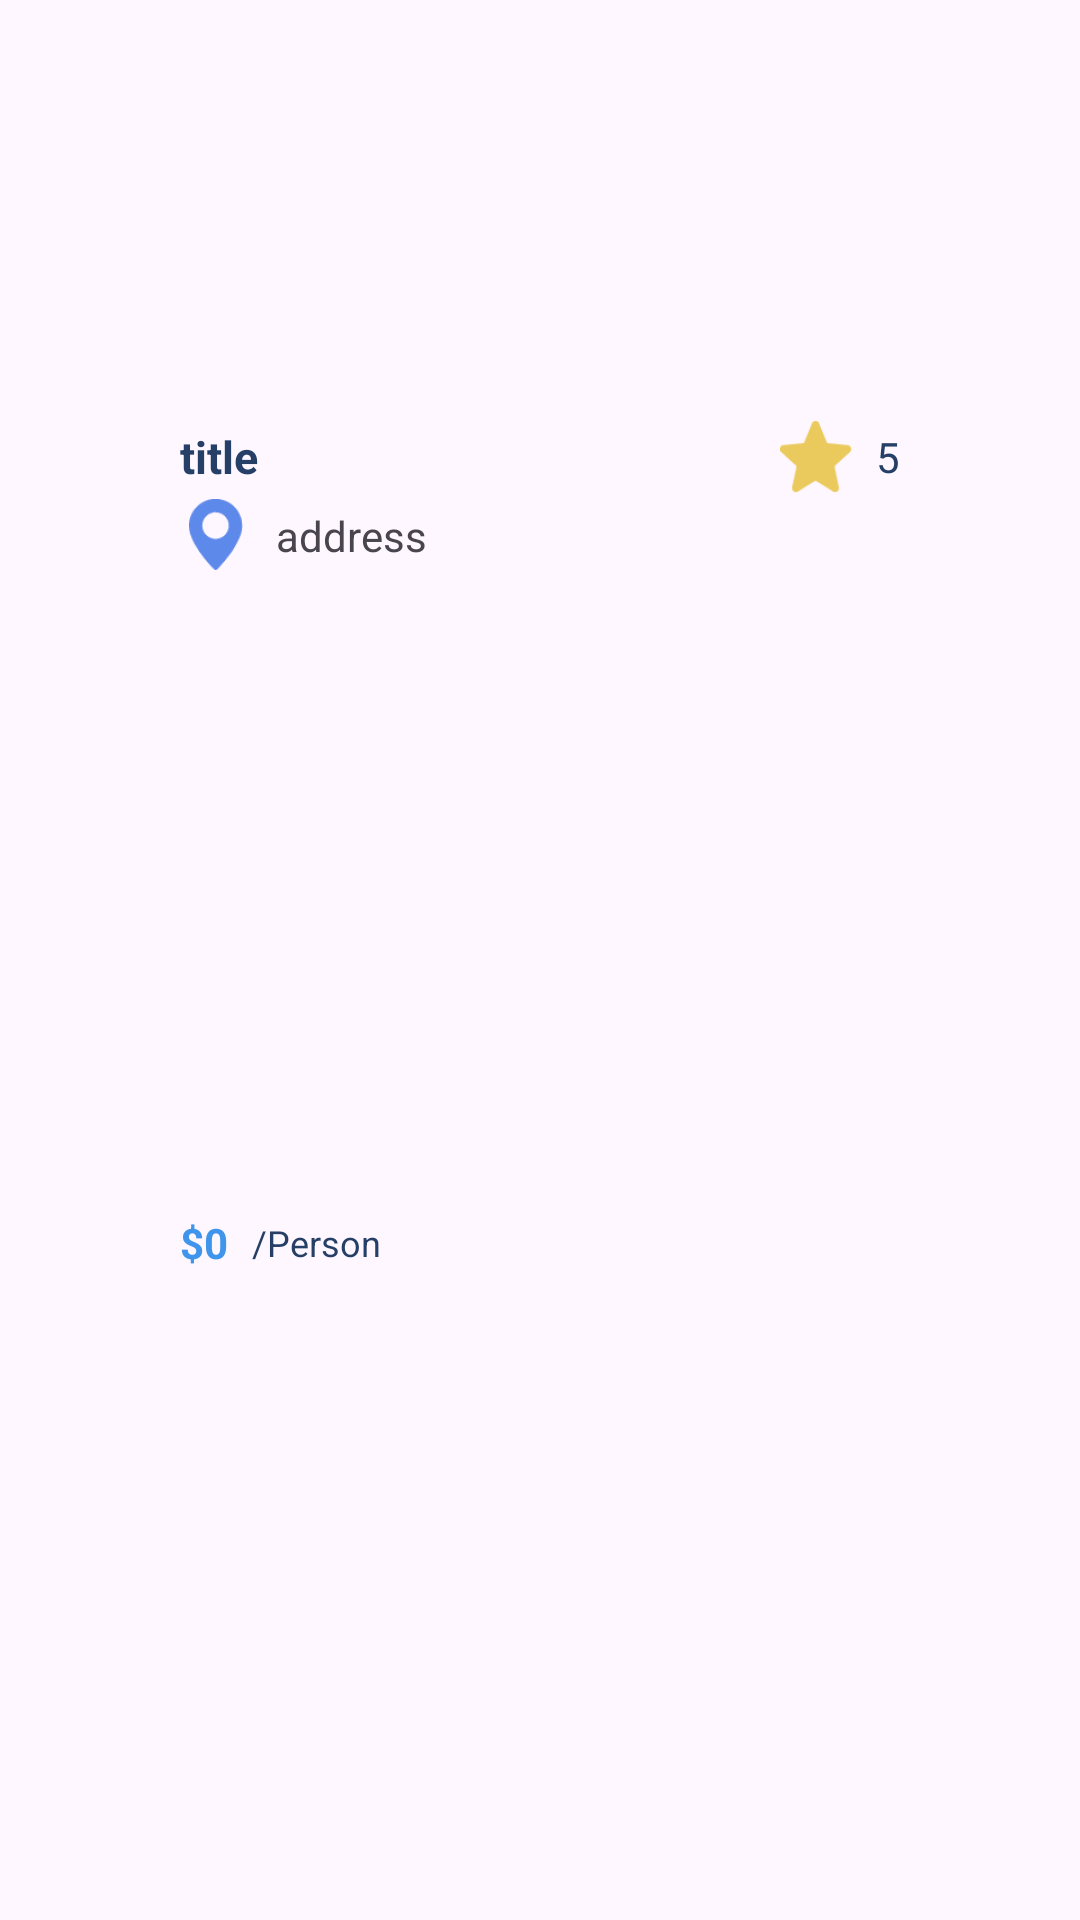

Where icons sit on this 1080*1920 app screen, as (x1=x1, y1=y1, x2=x2, y2=y2):
location: (x1=189, y1=499, x2=243, y2=570)
star: (x1=780, y1=421, x2=852, y2=493)
